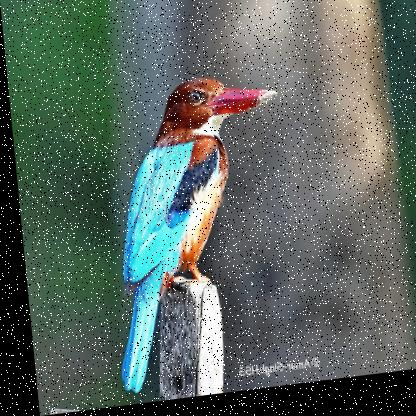Burung: (91, 75, 297, 395)
